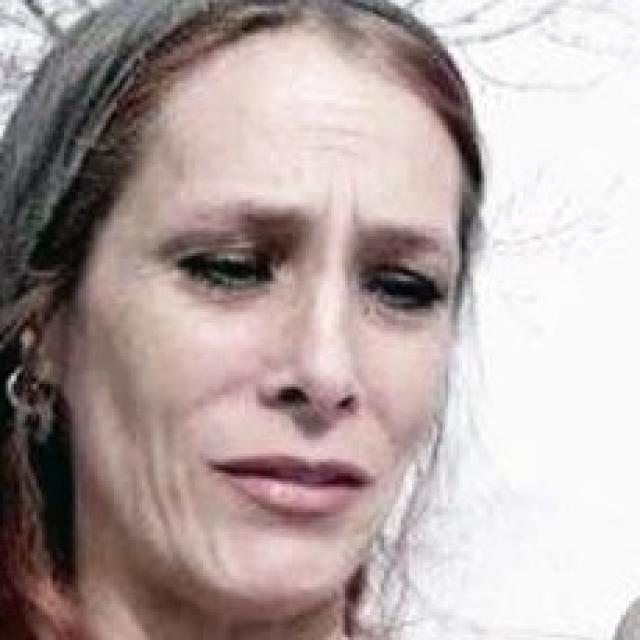Depress: (59, 10, 468, 615)
